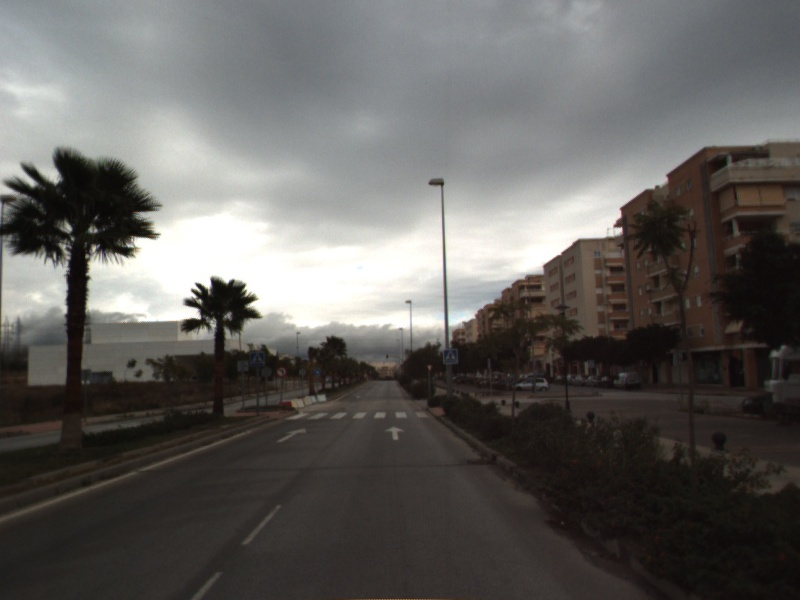STRAIGHT: (275, 426, 308, 444), (383, 424, 406, 442)
